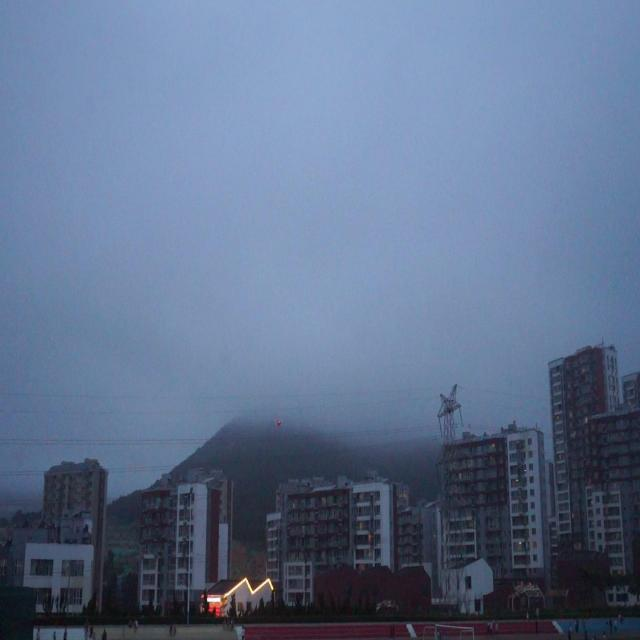UAV: (275, 419, 283, 427)
